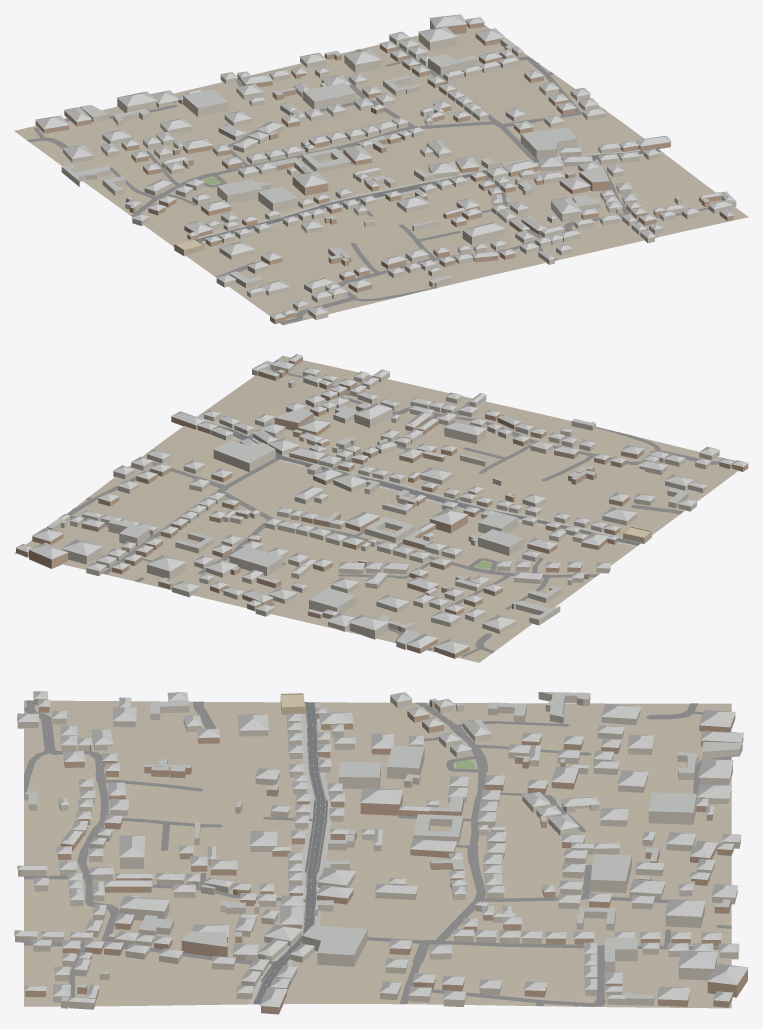
The model's file is bolak_1_-1.glb.
3 renders of one model, top to bottom at view 1: azimuth 30°, elevation 25°; view 2: azimuth 150°, elevation 25°; view 3: azimuth 270°, elevation 25°, orthographic. The views are drawn at different scales.
Parts seen in each view (by area): view 1: Yer_Tuproq-col, Tom_Shifer, Devor_Suvoq-col, Devor_Gisht-col, Yol_Mahalla-col, Trotuar, Yol_Asfalt-col; view 2: Yer_Tuproq-col, Tom_Shifer, Devor_Suvoq-col, Devor_Gisht-col, Yol_Mahalla-col, Trotuar, Yol_Asfalt-col; view 3: Yer_Tuproq-col, Tom_Shifer, Devor_Suvoq-col, Yol_Mahalla-col, Devor_Gisht-col, Yol_Asfalt-col, Trotuar.
Boxes of the visible parts, x1,y1,x2,y2 form: Yer_Tuproq-col: (14, 25, 748, 325); Tom_Shifer: (35, 14, 735, 319); Devor_Suvoq-col: (61, 33, 736, 319); Devor_Gisht-col: (35, 20, 733, 324); Yol_Mahalla-col: (27, 42, 708, 324); Trotuar: (170, 149, 662, 245); Yol_Asfalt-col: (173, 148, 660, 246); Yer_Tuproq-col: (14, 355, 738, 662); Tom_Shifer: (15, 354, 748, 653); Devor_Suvoq-col: (46, 363, 719, 649); Devor_Gisht-col: (16, 357, 748, 658); Yol_Mahalla-col: (66, 370, 735, 656); Trotuar: (196, 416, 640, 547); Yol_Asfalt-col: (206, 421, 640, 545); Yer_Tuproq-col: (24, 700, 731, 1008); Tom_Shifer: (14, 691, 748, 1007); Devor_Suvoq-col: (15, 692, 742, 1009); Yol_Mahalla-col: (24, 700, 731, 1006); Devor_Gisht-col: (25, 699, 747, 1014); Yol_Asfalt-col: (253, 702, 327, 1004); Trotuar: (248, 702, 332, 1003).
Size of what is drawn, in the model's own units: 420 by 15.42 by 415.
